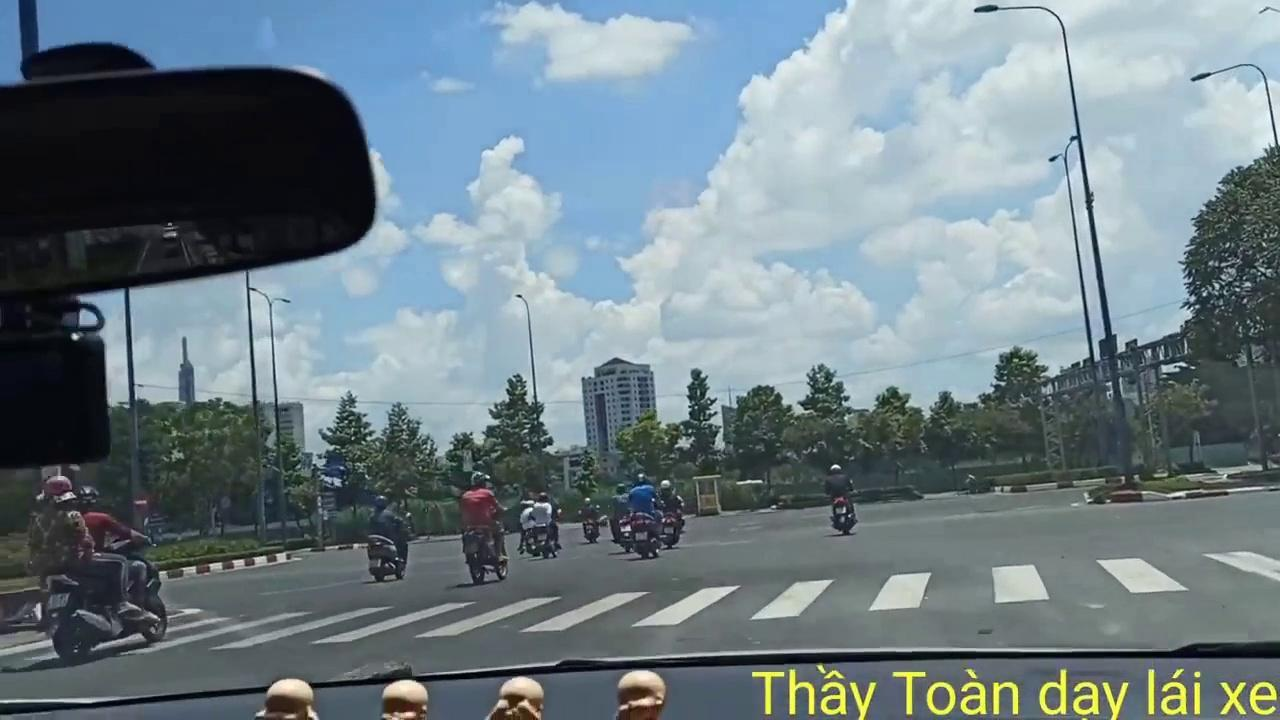Cấm đi ngược chiều: (129, 490, 154, 517)
